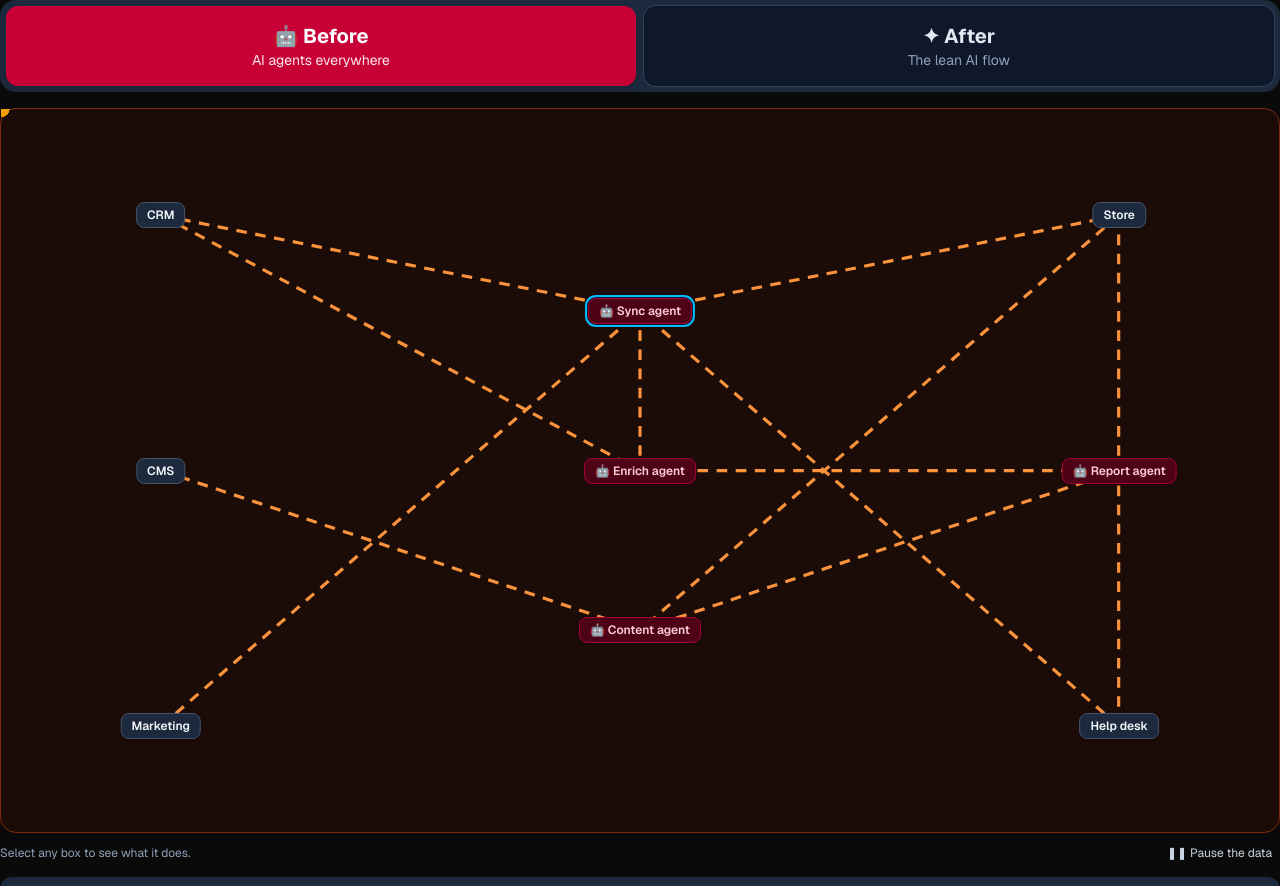
Test: AI cost case page › switches to the lean flow, showing new numbers next to the old ones
The image size is (1280, 886).
Click the button "✦ After The lean AI flow".
click(959, 46)  # box 644,6 -> 1274,86
(page scrolled)
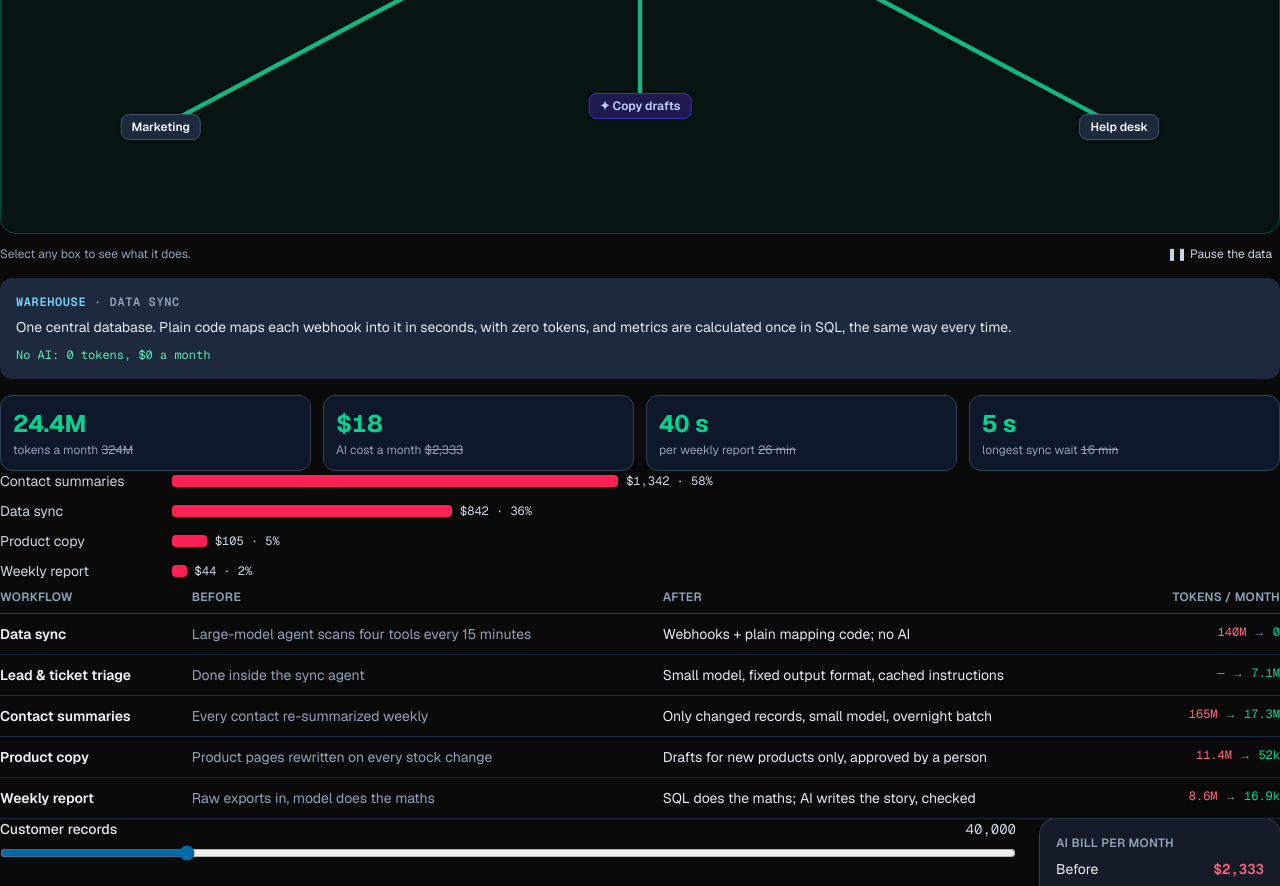
Expected: the text "324M" is shown, 101,442 -> 133,458
Expected: the text "No AI: 0 tokens, $0 a month" is shown, 16,347 -> 210,363
Expected: the text "24.4M" is shown, 13,408 -> 86,439
